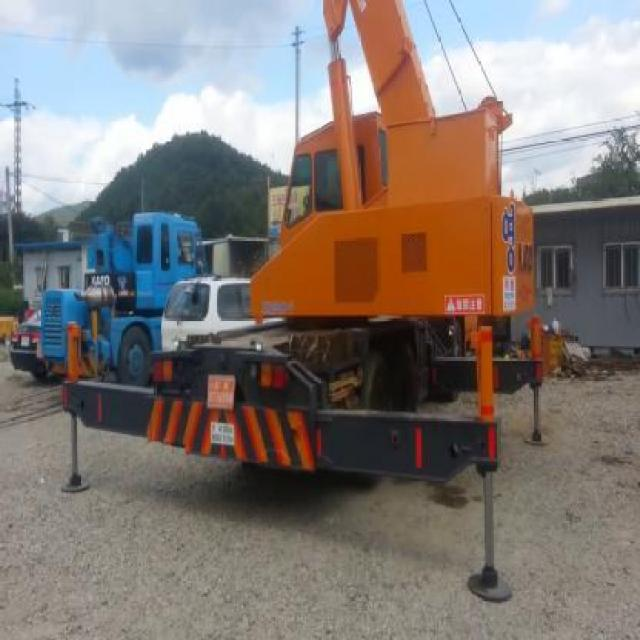Mobile Crane: (64, 0, 539, 602)
